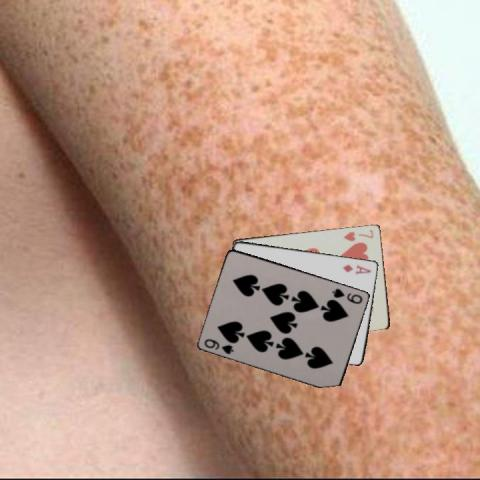7h: (340, 226, 374, 243)
9s: (329, 286, 364, 306), (202, 336, 236, 356)
Ad: (340, 262, 373, 275)
